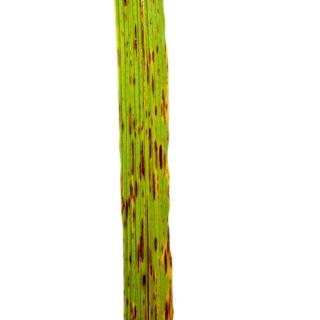Bercak-Cokelat-Sempit: (146, 125, 172, 201), (159, 220, 180, 283), (149, 290, 181, 319), (129, 21, 150, 61), (131, 138, 147, 185), (119, 188, 137, 226), (143, 66, 161, 94), (138, 217, 146, 266), (124, 295, 139, 320), (153, 43, 166, 65), (150, 103, 163, 122), (152, 237, 158, 252)
